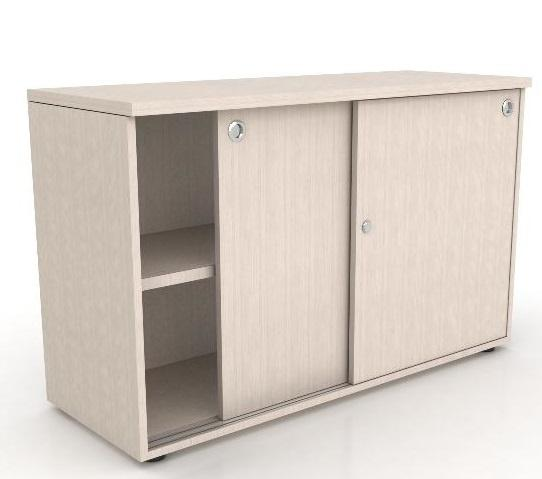cabinet_door: (351, 96, 512, 361), (219, 109, 348, 402)
handle: (360, 216, 373, 236)
